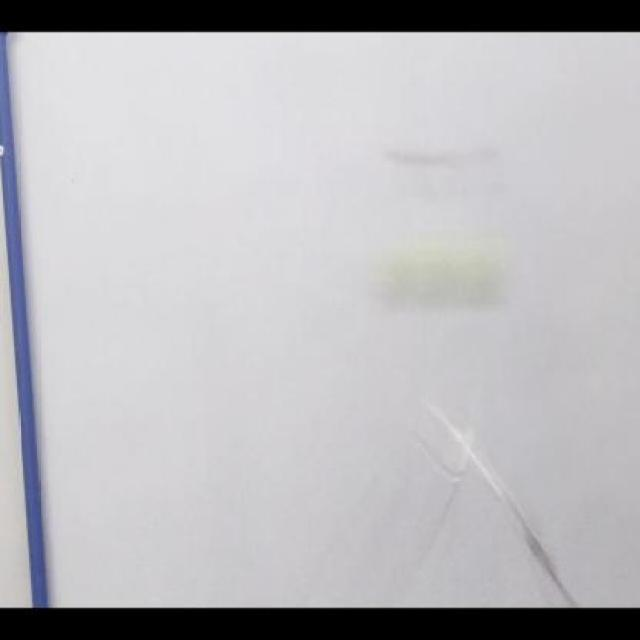baseball: (368, 233, 518, 309)
